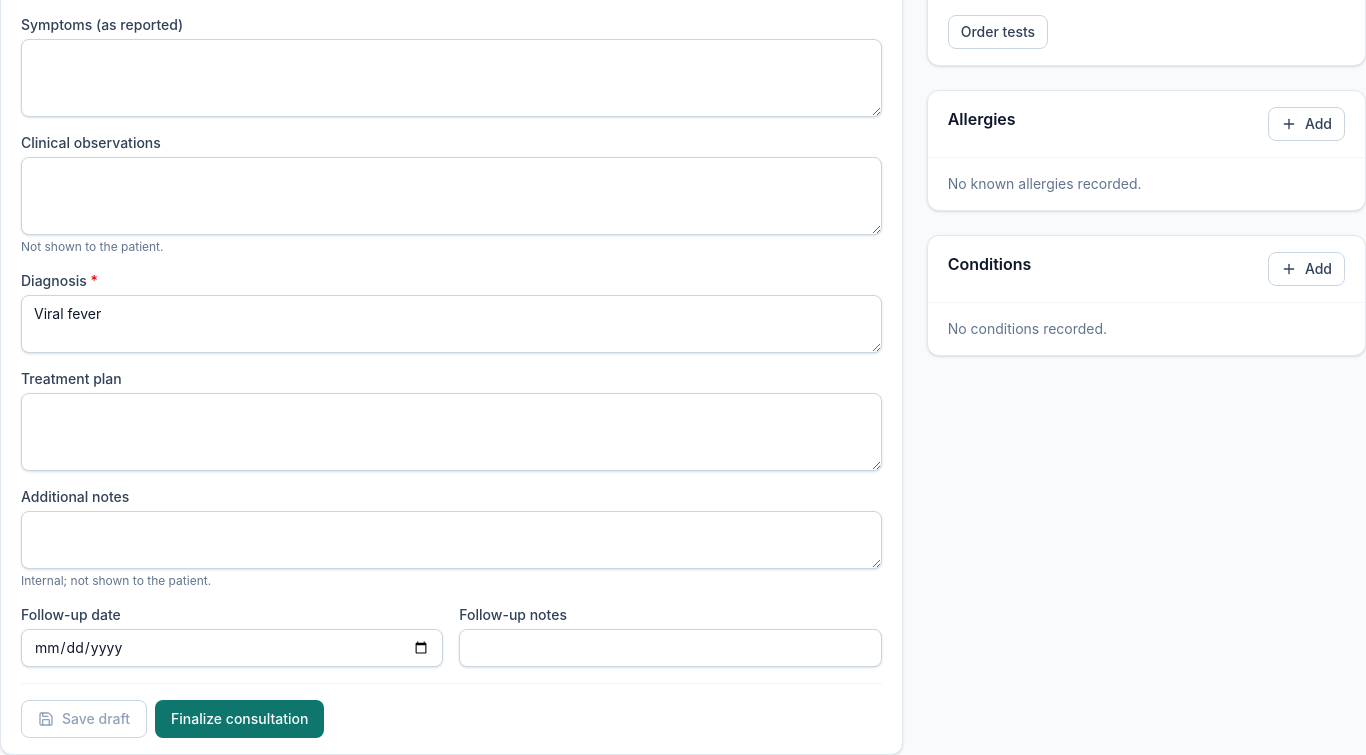
Test: ConsultationPage › asks for confirmation before finalizing
The width and height of the screenshot is (1366, 755).
Later steps or results of the test are not shown.
(page scrolled)
Click the button "Finalize consultation".
click(240, 719)  # box [155, 700, 324, 738]
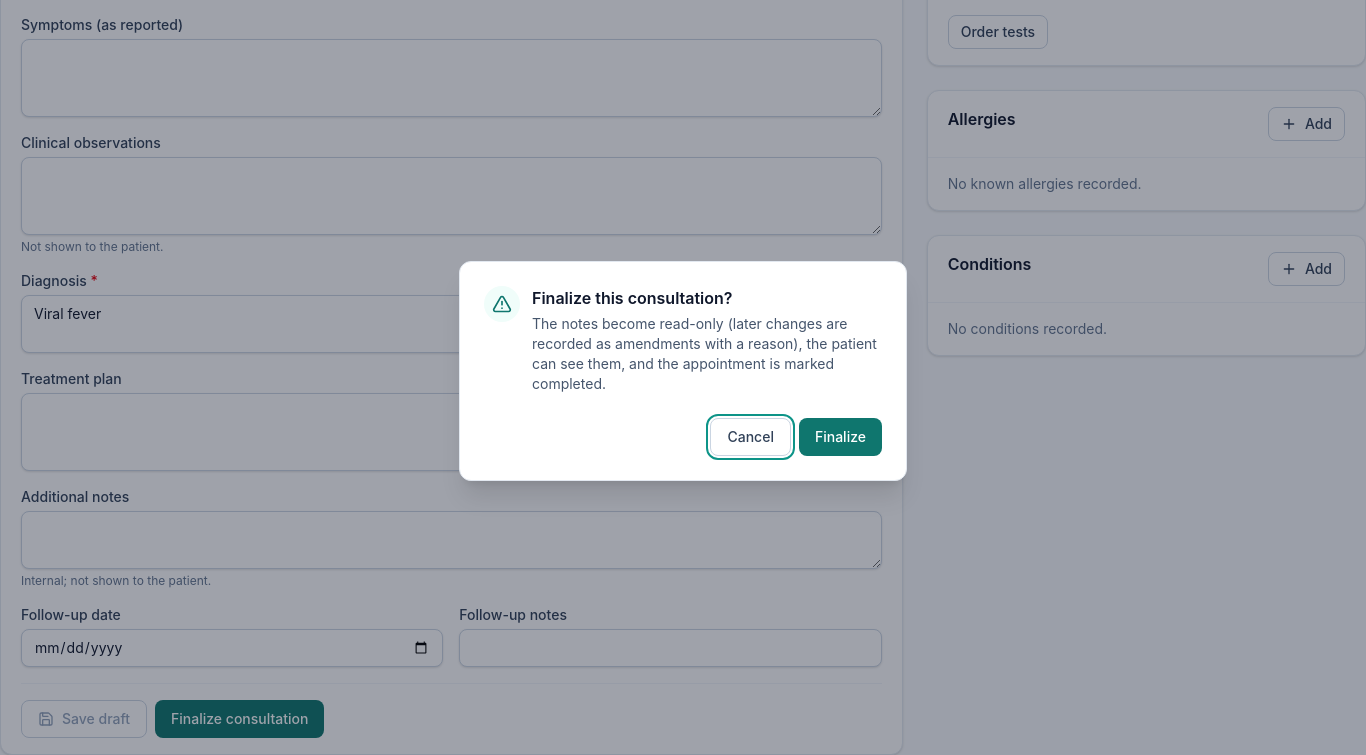
Now the heading "Finalize this consultation?" is shown, box [532, 288, 732, 308]
